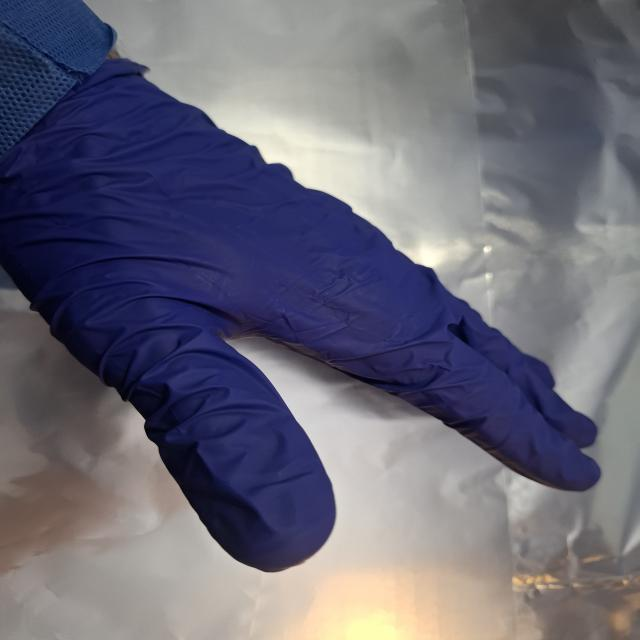glove_on: (0, 61, 610, 576)
